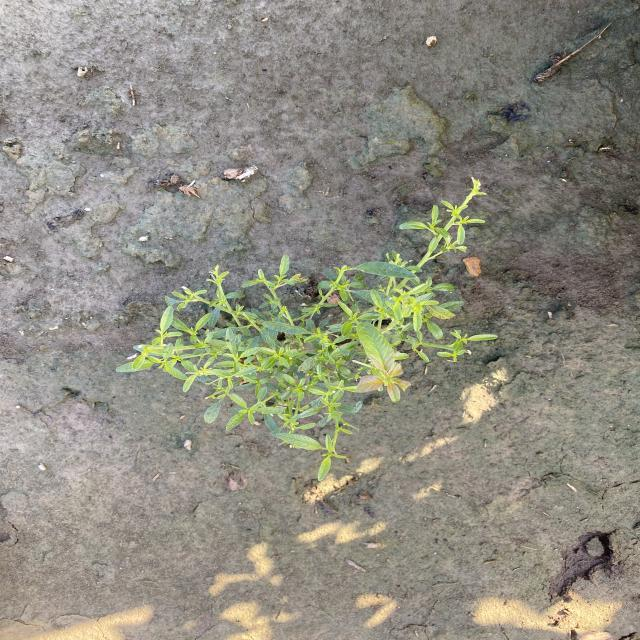Waterhemp: (114, 176, 500, 483)
